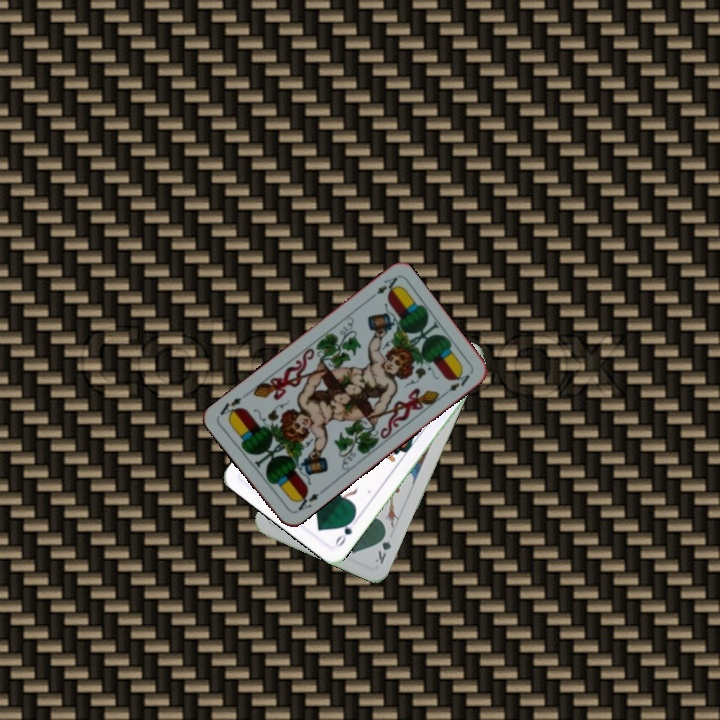EA: (365, 273, 400, 303), (291, 486, 326, 513)
GK: (371, 527, 394, 567)
GO: (331, 513, 361, 549)
